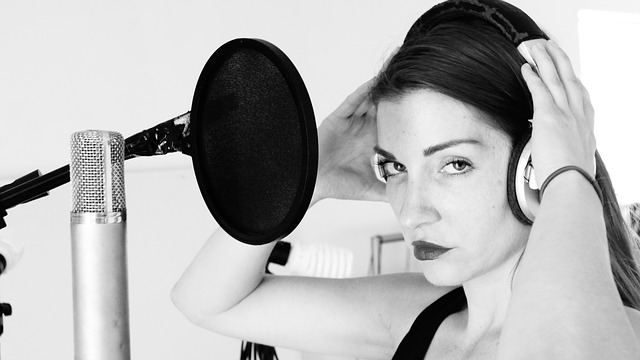headphones: (404, 1, 550, 227)
